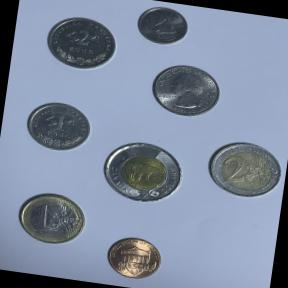coin: (94, 134, 192, 209), (202, 134, 288, 204), (144, 58, 229, 122), (40, 12, 122, 74), (13, 186, 91, 250), (98, 230, 168, 284), (132, 1, 195, 48)
